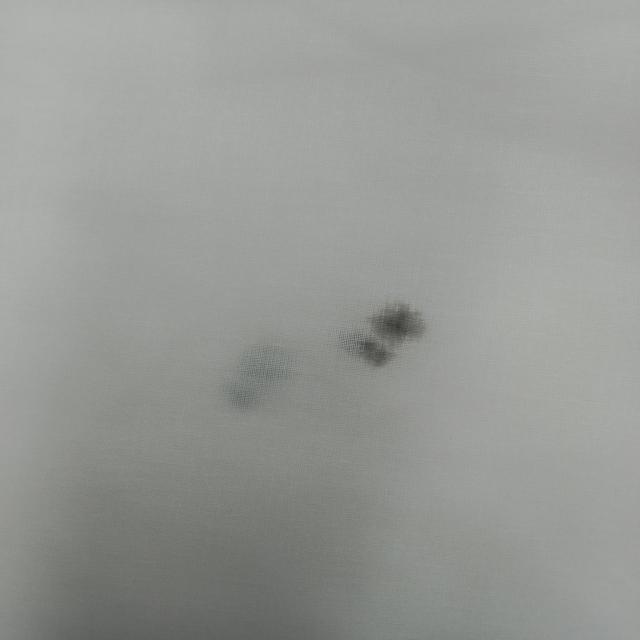stain: (221, 336, 304, 415), (341, 300, 433, 368)
